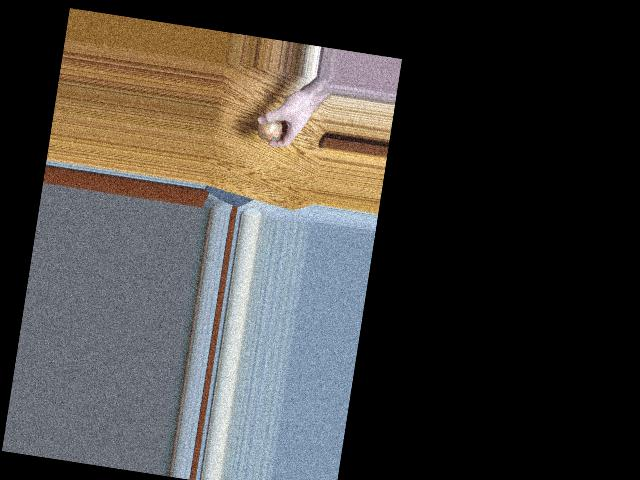onion: (256, 114, 283, 143)
